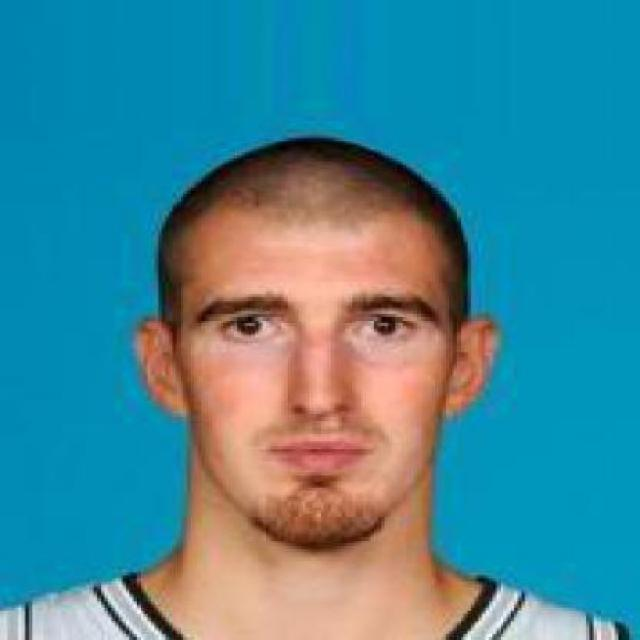closed-mouth: (267, 427, 382, 475)
